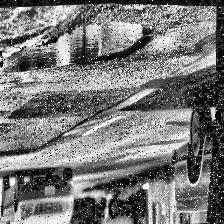pothole: (8, 12, 156, 78)
